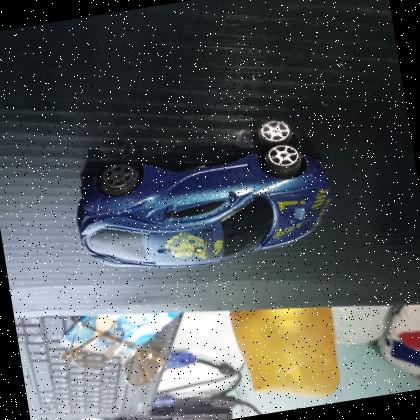Car: (65, 128, 343, 289)
